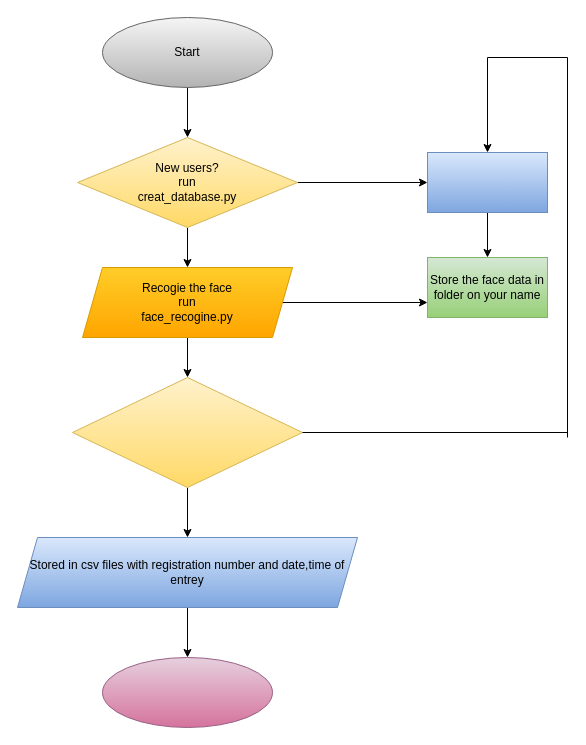
The diagram is 586 pixels wide and 745 high, and some of its shapes have lost their labels. Each missing label, with the box of its shape:
Exit: (102, 656, 272, 728)
Face recognized: (72, 376, 302, 488)
Give our phtotgraph: (426, 152, 548, 212)
